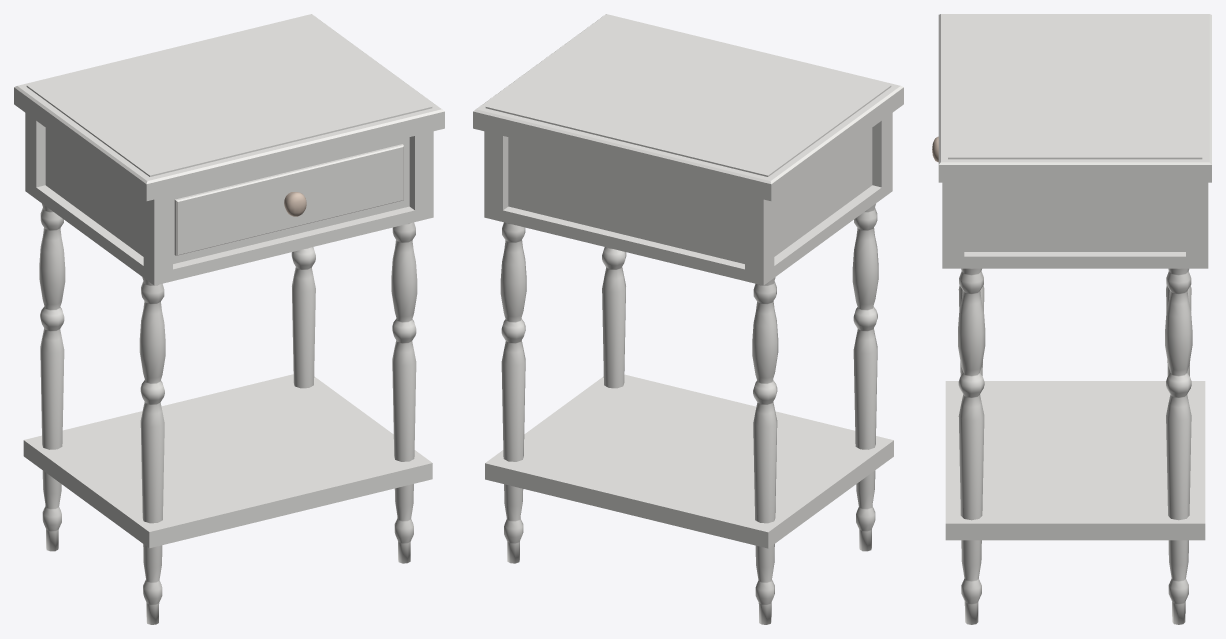
The model's file is prop_side_table.fbx.
3 views of the same model, side by side, from view 1: azimuth 30°, elevation 25°; view 2: azimuth 150°, elevation 25°; view 3: azimuth 270°, elevation 25° (orthographic). The views are drawn at different scales.
Parts seen in each view (by area): view 1: Mesita auxiliar; view 2: Mesita auxiliar; view 3: Mesita auxiliar.
Part boxes in pixels (<box>): Mesita auxiliar: <box>14,14,444,624</box>; Mesita auxiliar: <box>473,14,903,624</box>; Mesita auxiliar: <box>932,14,1211,624</box>.
Size of the model in its own units: 53.44 by 78.48 by 42.07.
Materials: 2 (2 with a texture image).
